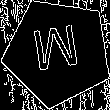M_S: (31, 24, 85, 81)
